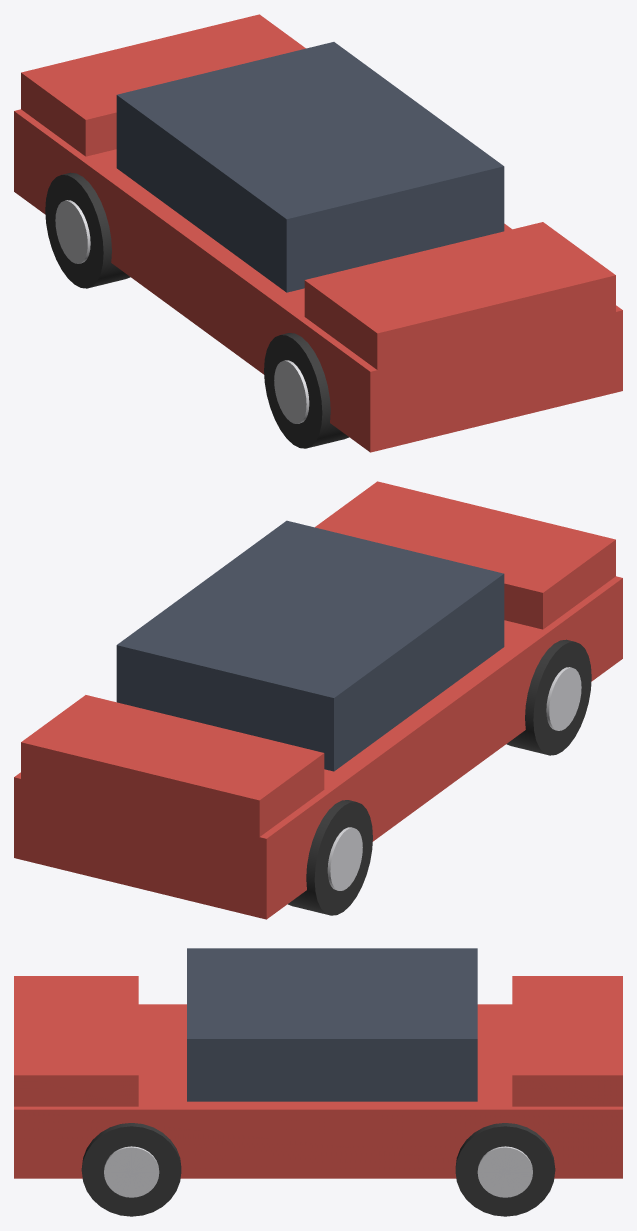
File: car.glb
3 renders of one model, top to bottom at view 1: azimuth 30°, elevation 25°; view 2: azimuth 150°, elevation 25°; view 3: azimuth 270°, elevation 25°, orthographic. The views are drawn at different scales.
Visible parts, largest first — view 1: body, glass, tire, rim; view 2: body, glass, tire, rim; view 3: body, glass, tire, rim.
Part boxes in pixels (<box>): body: <box>14,14,622,452</box>; glass: <box>116,42,504,292</box>; tire: <box>45,172,348,448</box>; rim: <box>55,200,309,423</box>; body: <box>14,481,622,919</box>; glass: <box>116,520,504,771</box>; tire: <box>288,639,591,915</box>; rim: <box>327,667,581,890</box>; body: <box>14,976,622,1178</box>; glass: <box>187,948,477,1101</box>; tire: <box>81,1123,555,1216</box>; rim: <box>104,1146,532,1197</box>.
Bounding box in the file's own units: 0.1114 × 0.0756 × 0.25.
